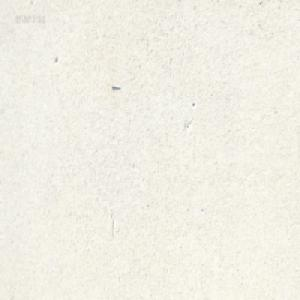Nail: (110, 83, 120, 88)
